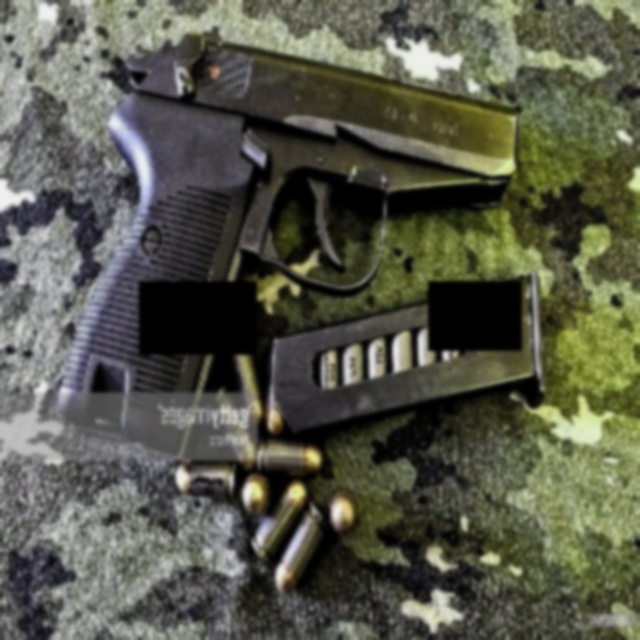gun: (56, 20, 522, 437)
